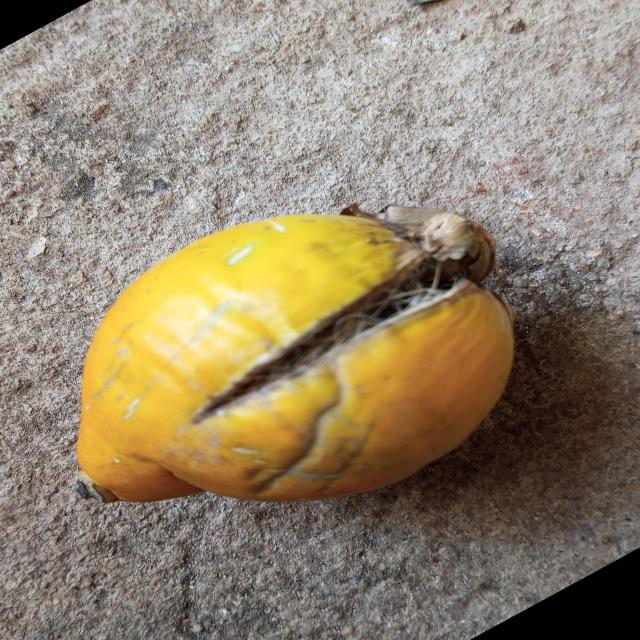damaged: (76, 210, 516, 505)
